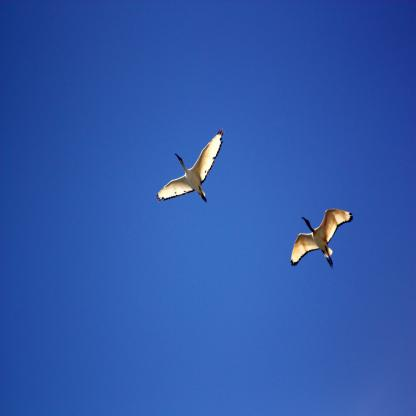bird: (157, 129, 224, 205), (291, 208, 353, 270)
